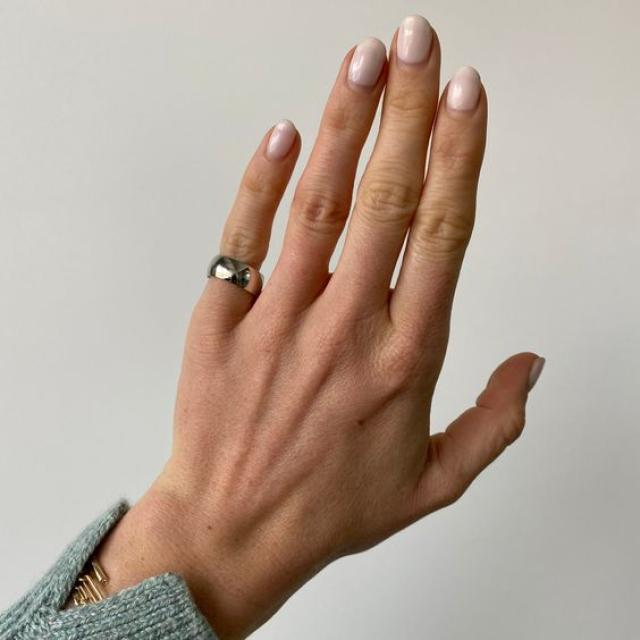Fingernail: (350, 40, 385, 86), (398, 16, 432, 63), (447, 66, 479, 112), (267, 121, 296, 161), (529, 358, 545, 392)
